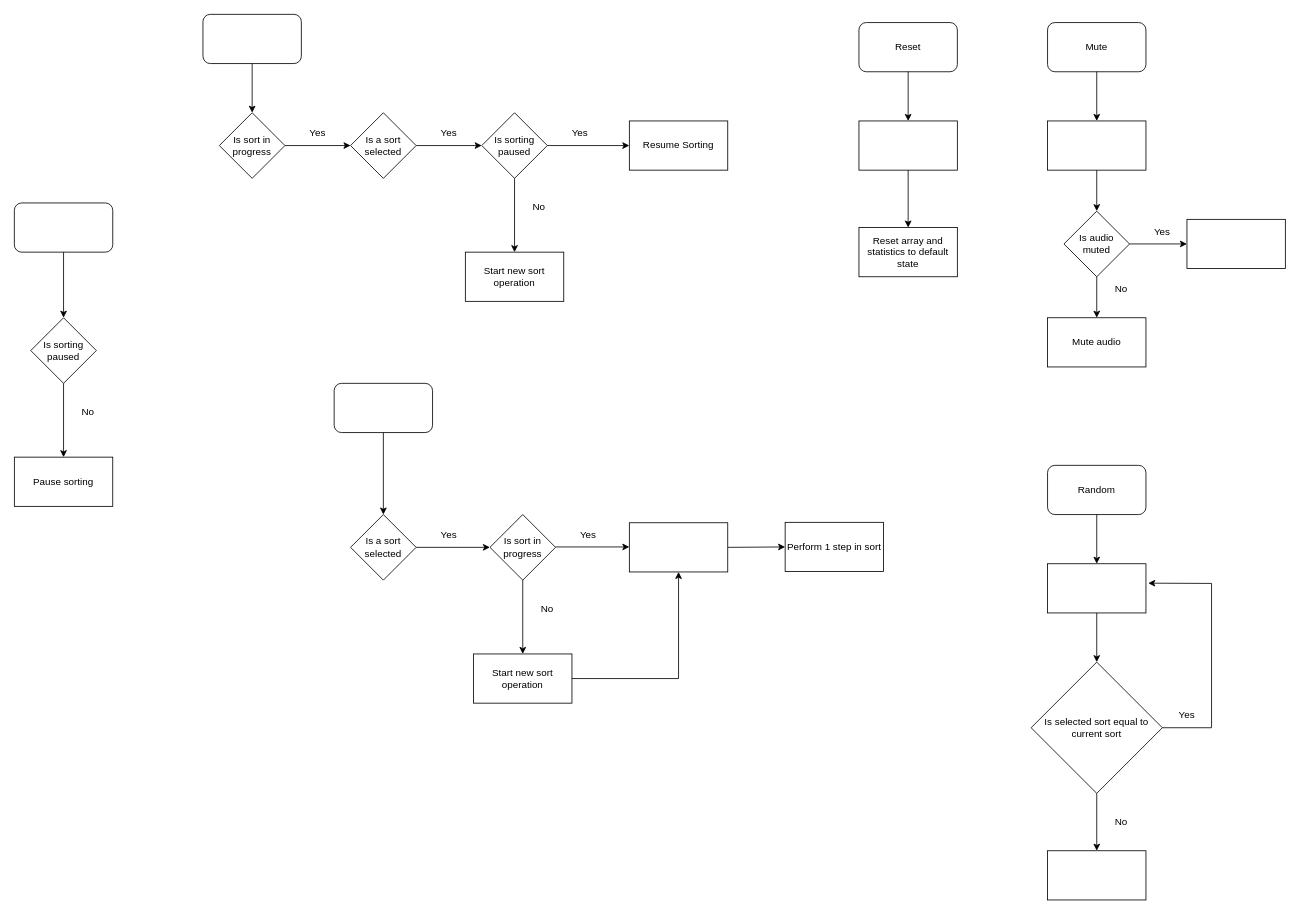
Image size: 1300x914. Some labels were removed from this diagram. Each missing label, with the centre of its shape:
Pause: point 63,227
Pause sort: point 678,547
Select a random sorting algorithm: point 1096,588
Set current sort to selected sort: point 1096,875
Start: point 251,39
Step: point 383,408
Stop current sort operation: point 907,145
Turn off currently playing notes: point 1096,145
Unmute audio: point 1235,244
